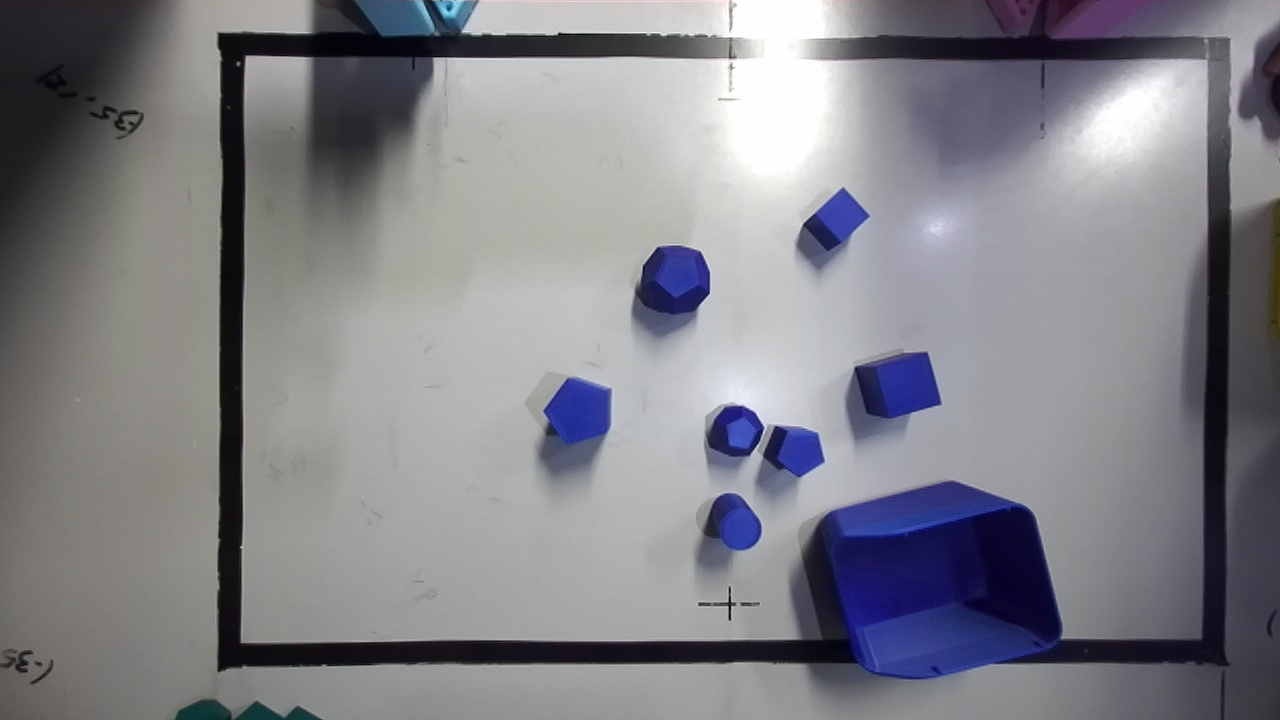bin: (819, 481, 1061, 678)
cube: (855, 352, 940, 417), (802, 187, 868, 250)
cylinder: (706, 493, 761, 549)
dodecahedron: (635, 246, 709, 313), (707, 405, 763, 455)
hexagonal: (544, 377, 610, 443), (764, 426, 823, 476)
